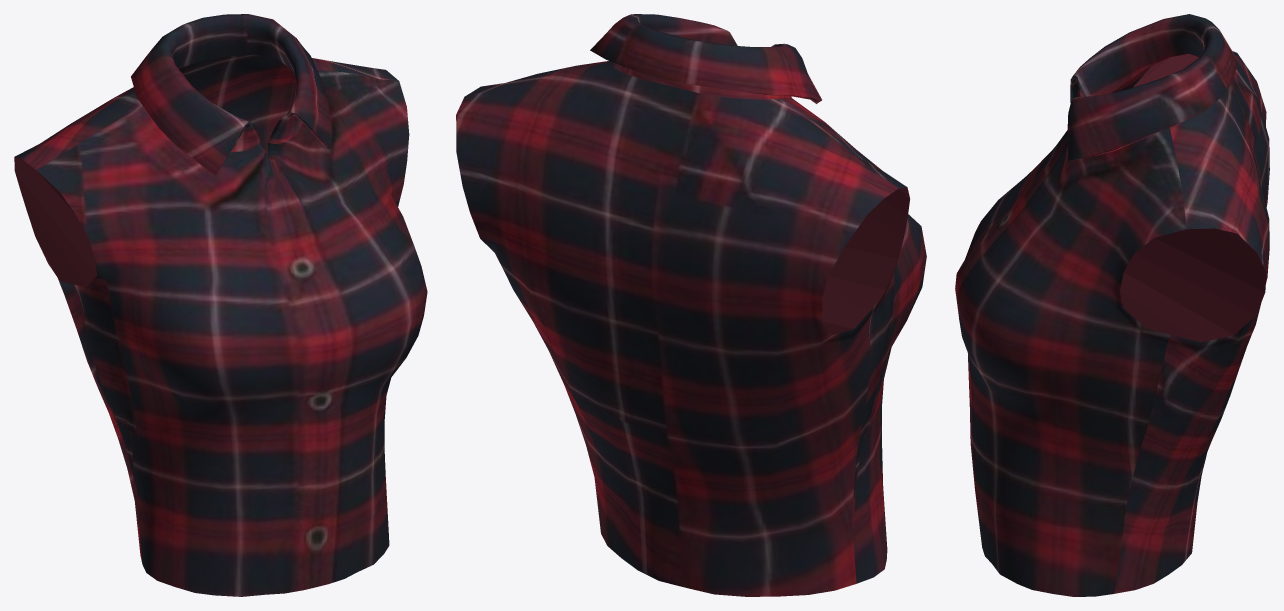
Rendered from av_irina_body.glb.
3 views of the same model, side by side, from view 1: azimuth 30°, elevation 25°; view 2: azimuth 150°, elevation 25°; view 3: azimuth 270°, elevation 25° (orthographic). The views are drawn at different scales.
Parts seen in each view (by area): view 1: Wolf3D_Outfit_Top.001; view 2: Wolf3D_Outfit_Top.001; view 3: Wolf3D_Outfit_Top.001.
Part boxes in pixels (left/top/right/bottom): Wolf3D_Outfit_Top.001: left=14, top=14, right=427, bottom=596; Wolf3D_Outfit_Top.001: left=456, top=14, right=926, bottom=596; Wolf3D_Outfit_Top.001: left=955, top=14, right=1269, bottom=596.
Bounding box in the file's own units: 0.3198 × 0.4081 × 0.2308.
1 material, 1 textured.
